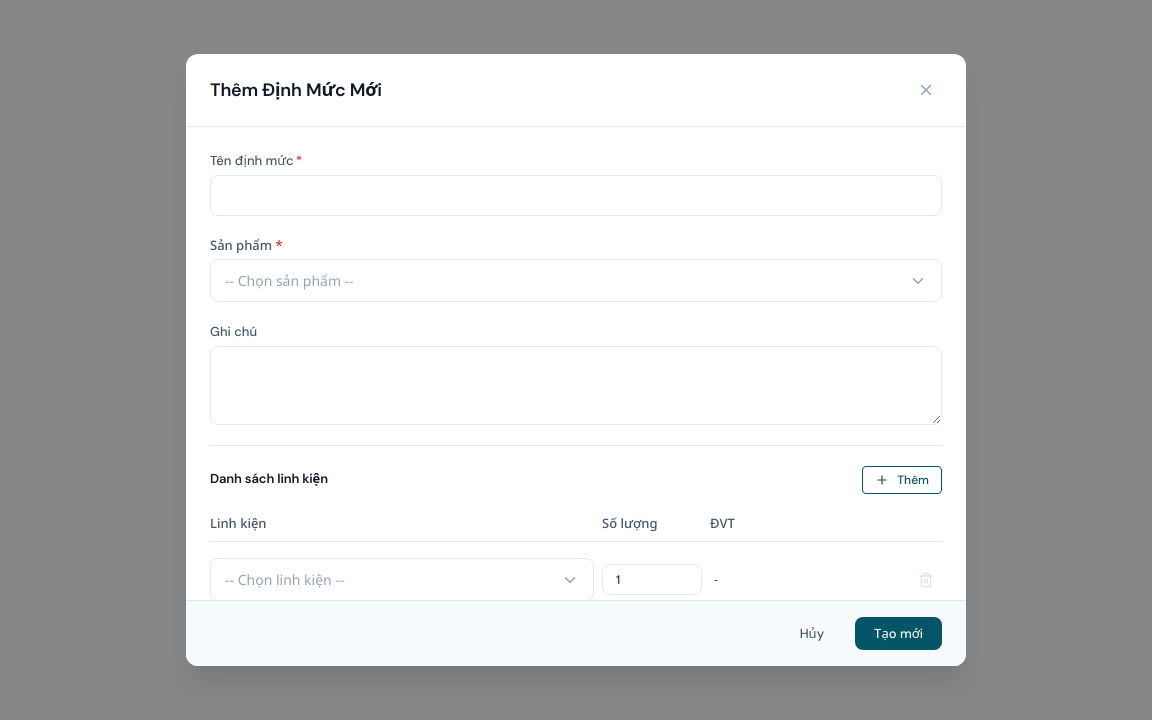
Test: BomFormModal › submits valid new BOM successfully
Note: Open product dropdown
Click the dropdown labelled "-- Chọn sản phẩm --" at (576, 280), box [210,259,942,302]
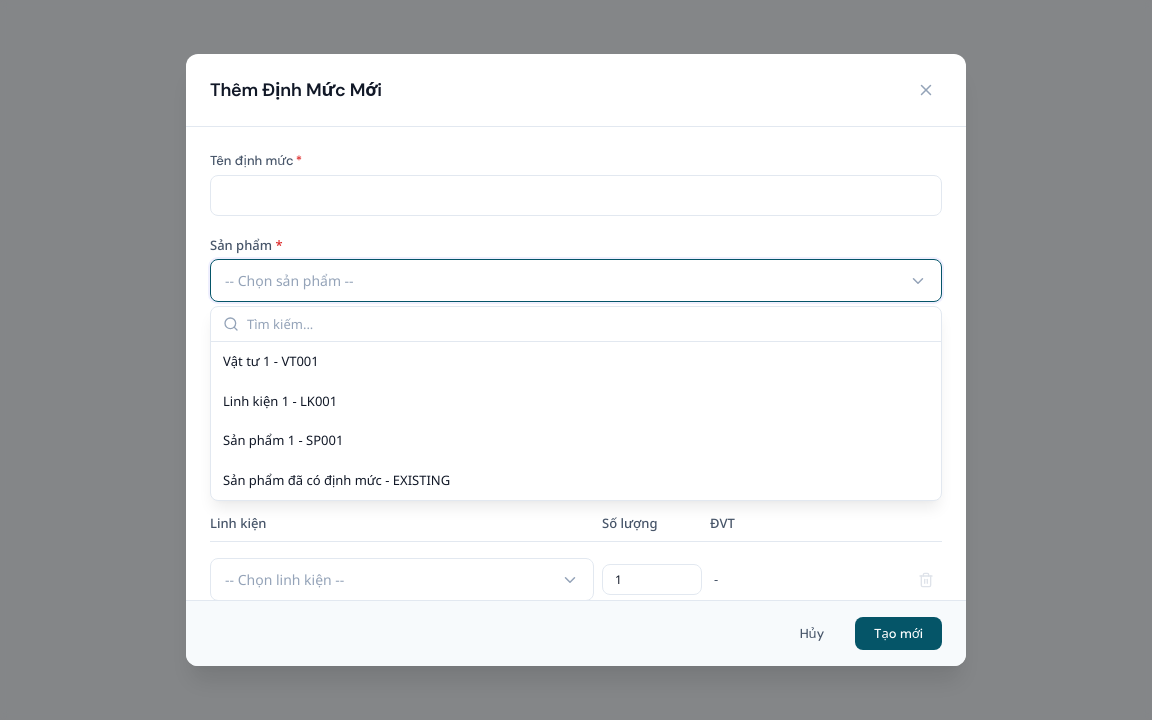
Click the option "Sản phẩm 1 - SP001" at (283, 440), box [223,431,343,449]
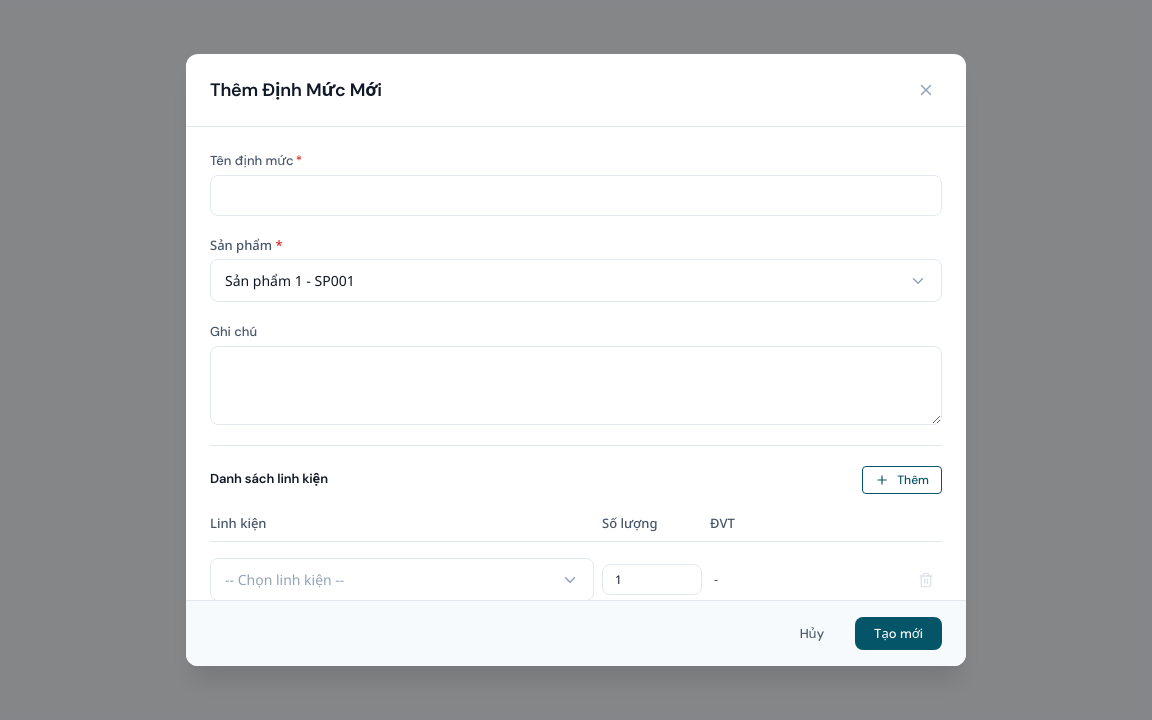
Type "New BOM Name" into the field labelled "Tên định mức*" at (576, 195), box [210,174,942,216]
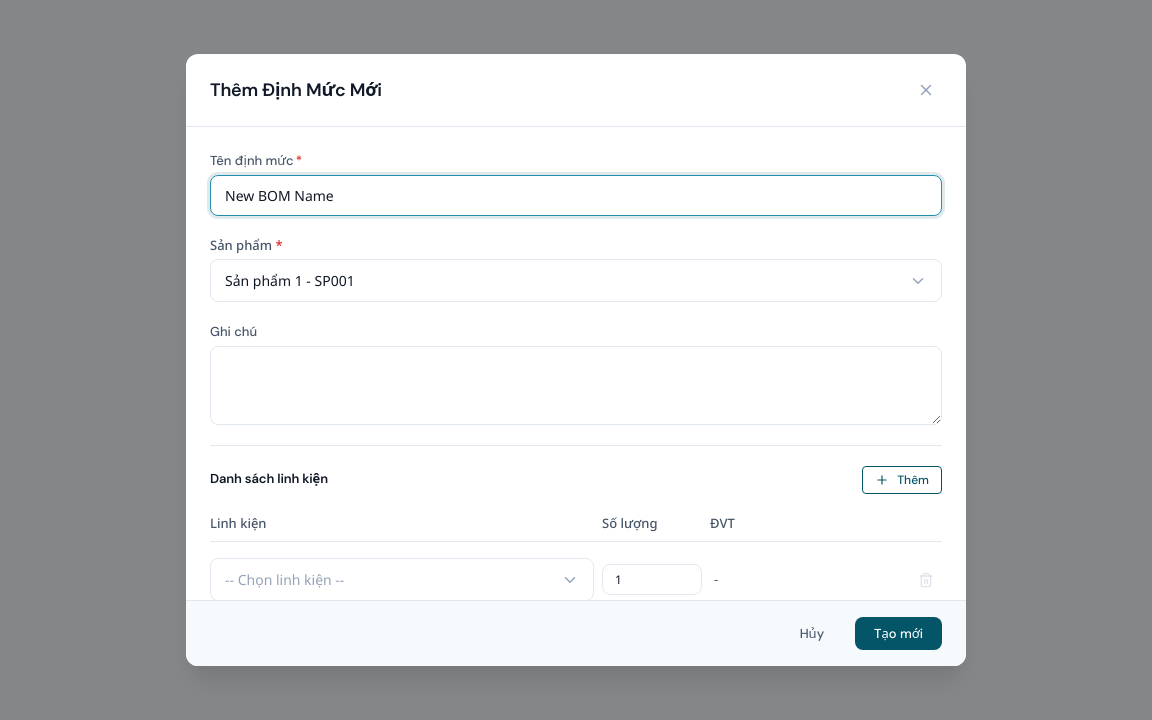
Note: Open items dropdown
Click the dropdown named "Mã linh kiện" at (402, 580), box [210,558,594,601]
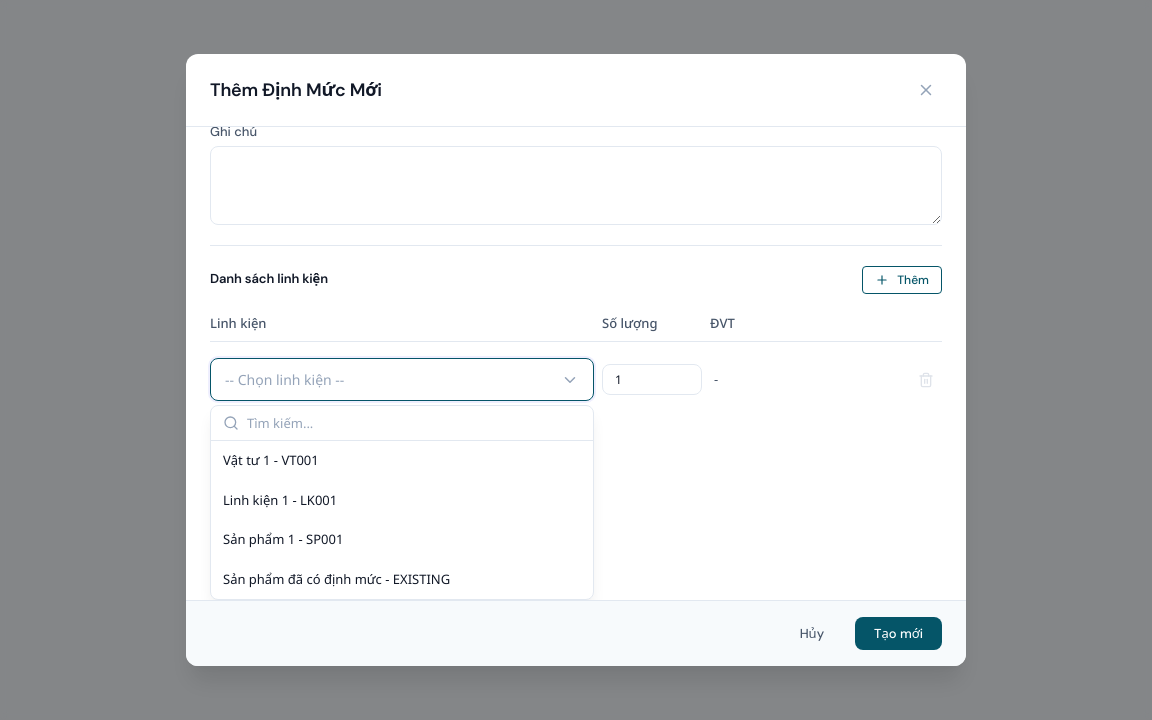
Click the option "Linh kiện 1 - LK001" at (280, 500), box [223,490,337,508]
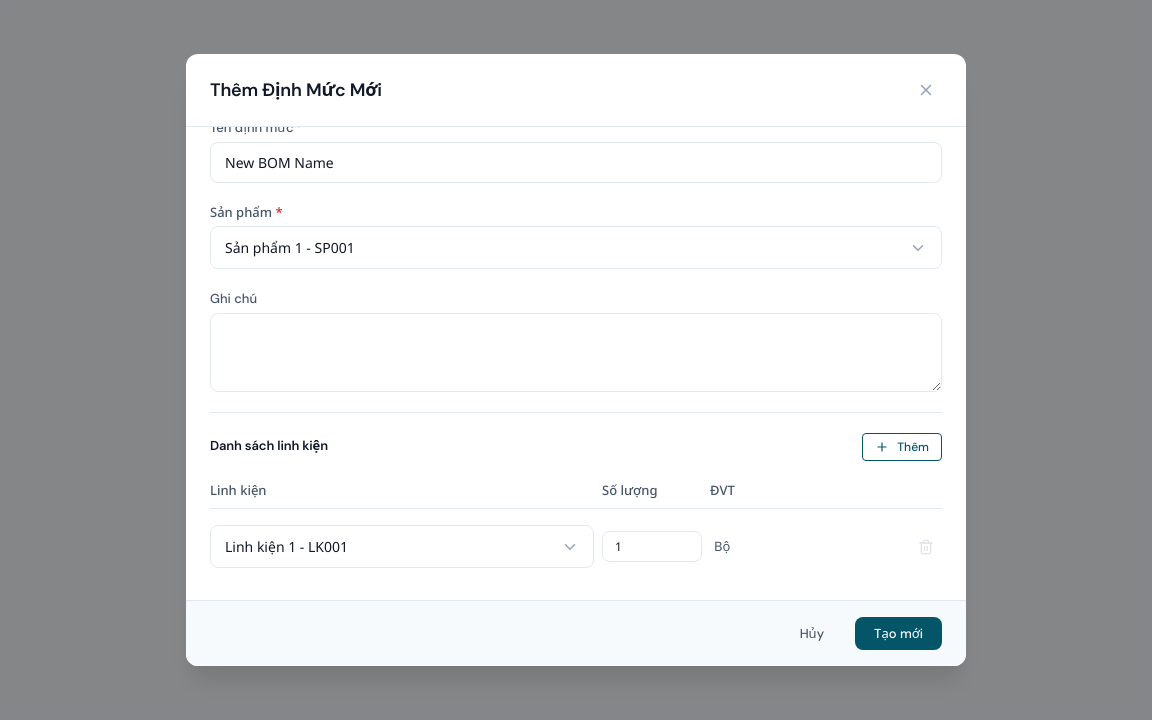
Click the button "Tạo mới" at (899, 634), box [855,617,942,650]
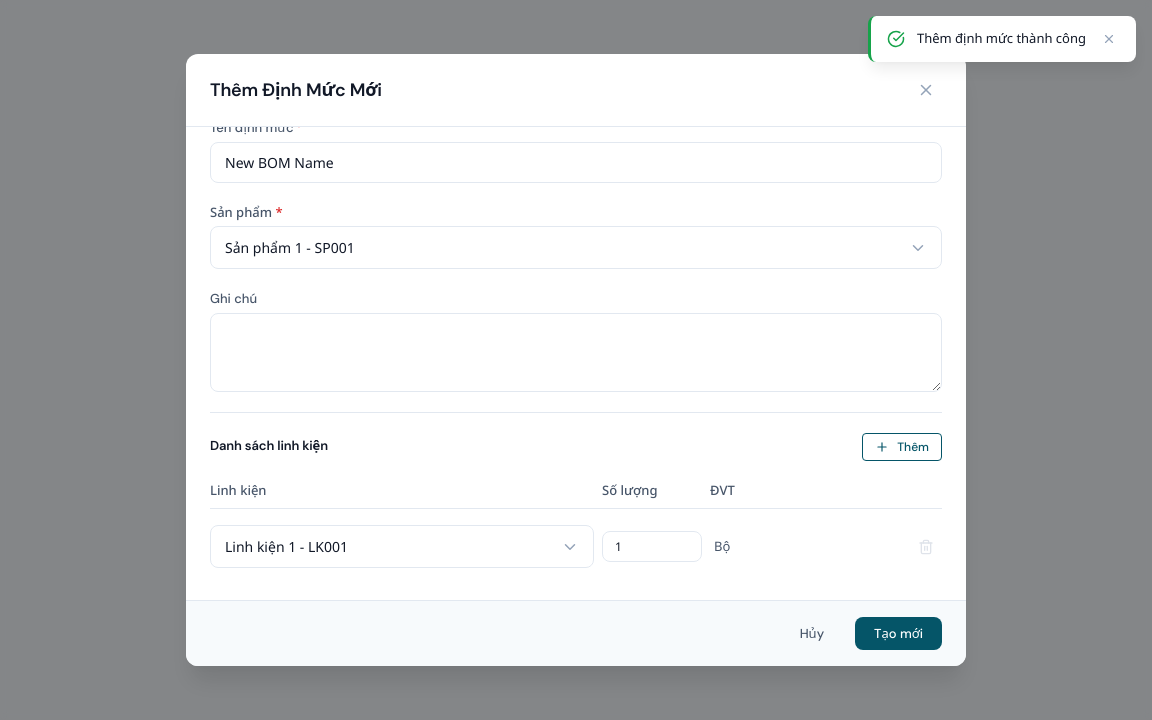
Check: the text "Thêm định mức thành công" is shown, box [917,29,1086,49]
